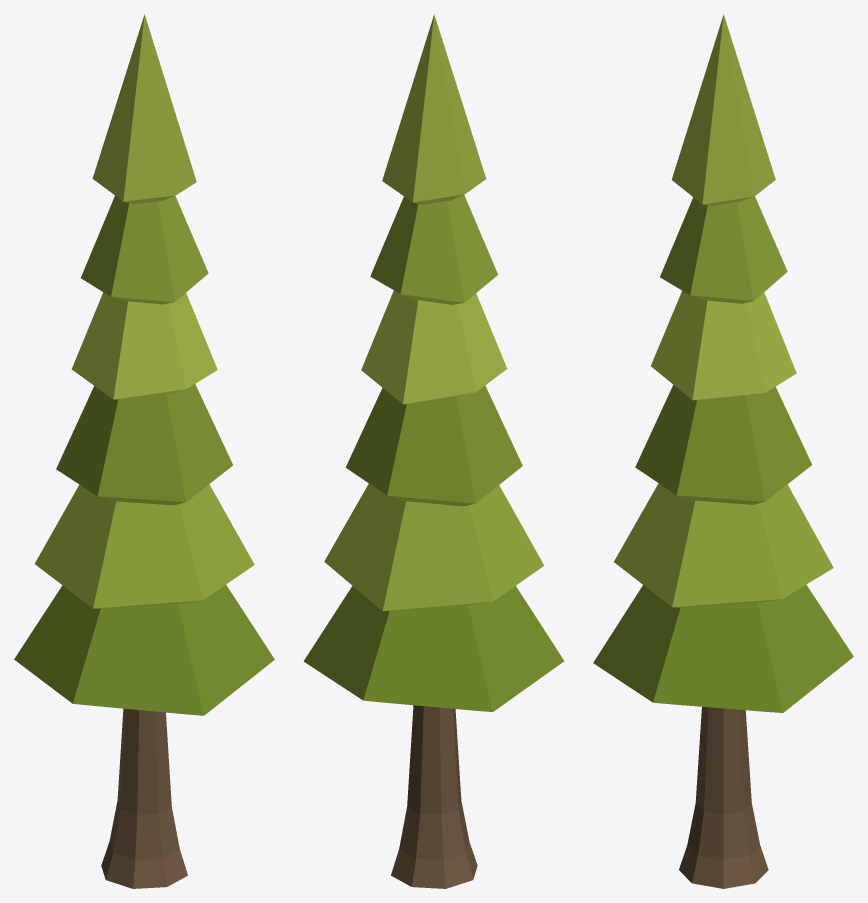
Rendered from NHP_Tree_LP_D1_10m_01.fbx.
The picture shows the model from 3 angles, left to right: view 1: azimuth 30°, elevation 25°; view 2: azimuth 150°, elevation 25°; view 3: azimuth 270°, elevation 25°; orthographic projection.
Visible parts, largest first — view 1: NHP_Tree_LP_D1_10m_01; view 2: NHP_Tree_LP_D1_10m_01; view 3: NHP_Tree_LP_D1_10m_01.
Part boxes in pixels (x1,y1,x2,y2): NHP_Tree_LP_D1_10m_01: [14, 14, 274, 888]; NHP_Tree_LP_D1_10m_01: [303, 14, 564, 888]; NHP_Tree_LP_D1_10m_01: [593, 14, 853, 888].
Size of the model in its own units: 2.52 by 10.2 by 2.82.
